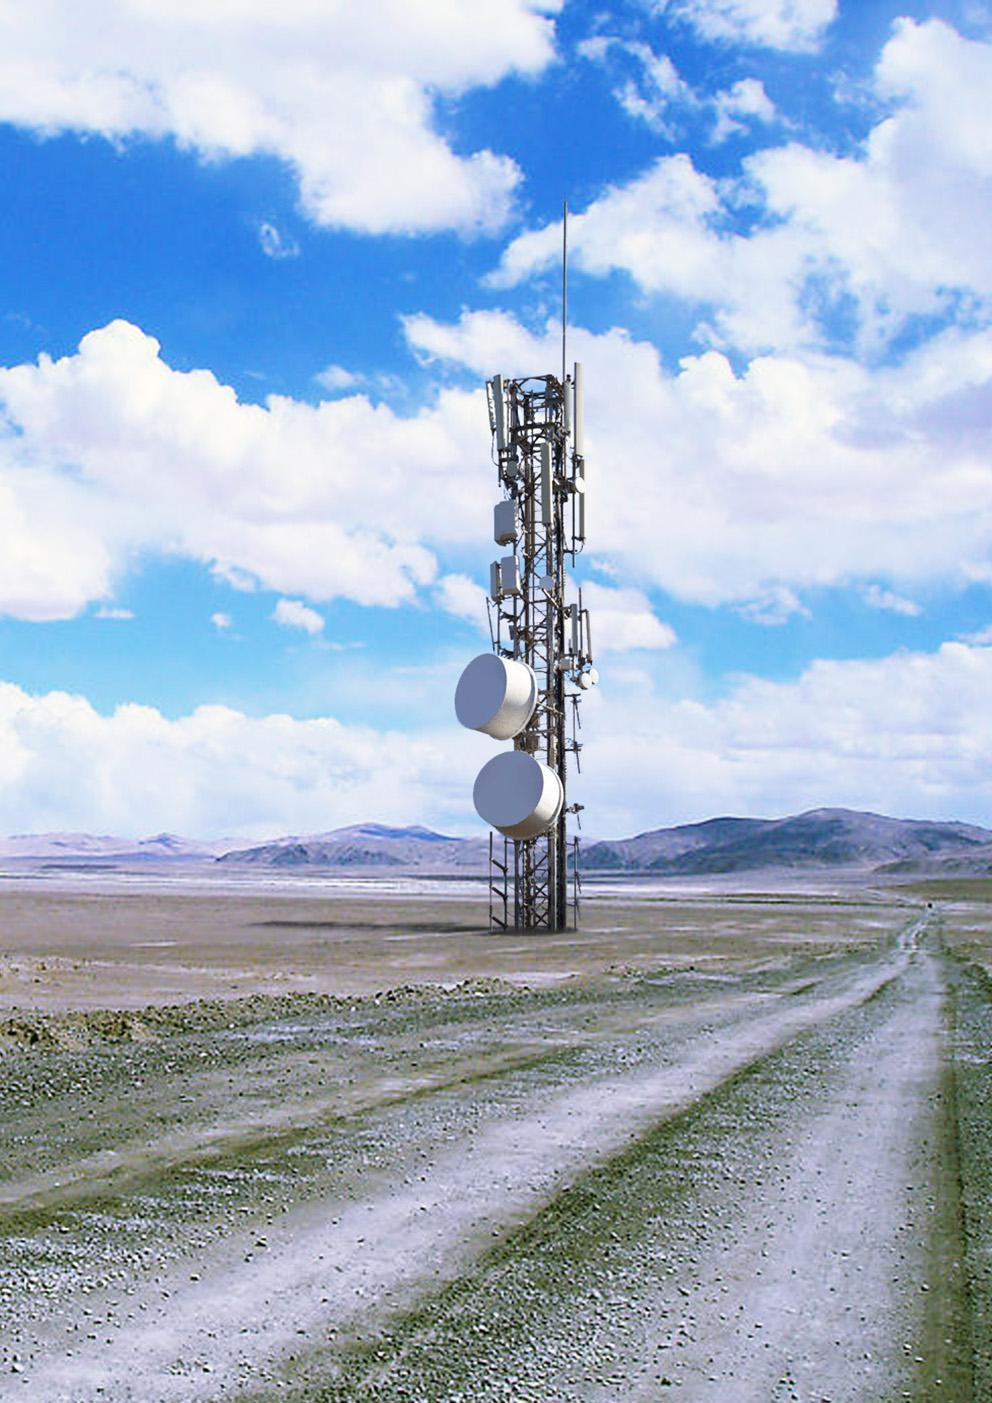ba: (466, 737, 584, 869), (427, 631, 549, 752)
